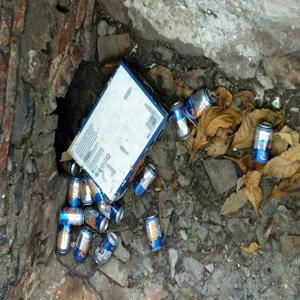cardboard: (65, 63, 179, 205)
metal: (183, 85, 215, 128), (168, 94, 194, 145), (251, 112, 274, 164), (94, 235, 127, 270), (141, 215, 166, 257), (130, 163, 159, 197), (73, 226, 97, 267), (81, 205, 113, 233), (56, 207, 90, 228), (65, 173, 84, 209), (98, 202, 128, 224), (56, 222, 76, 253), (89, 177, 106, 206), (80, 175, 95, 207), (60, 159, 82, 176)
